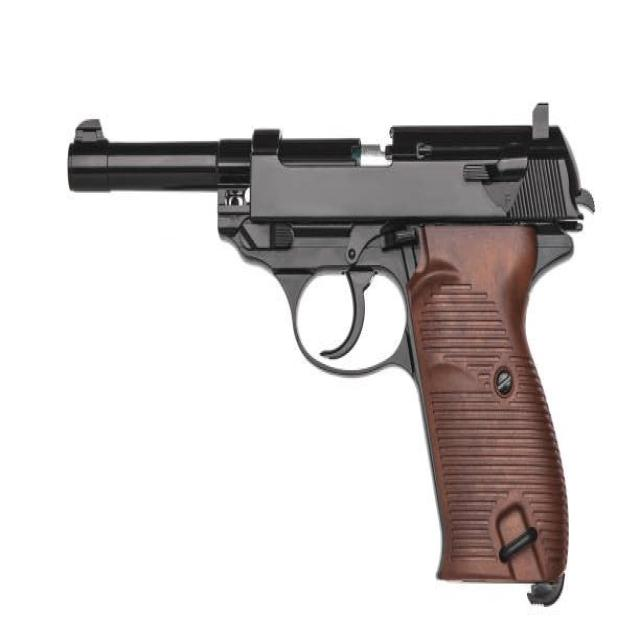pistol: (58, 88, 599, 619)
